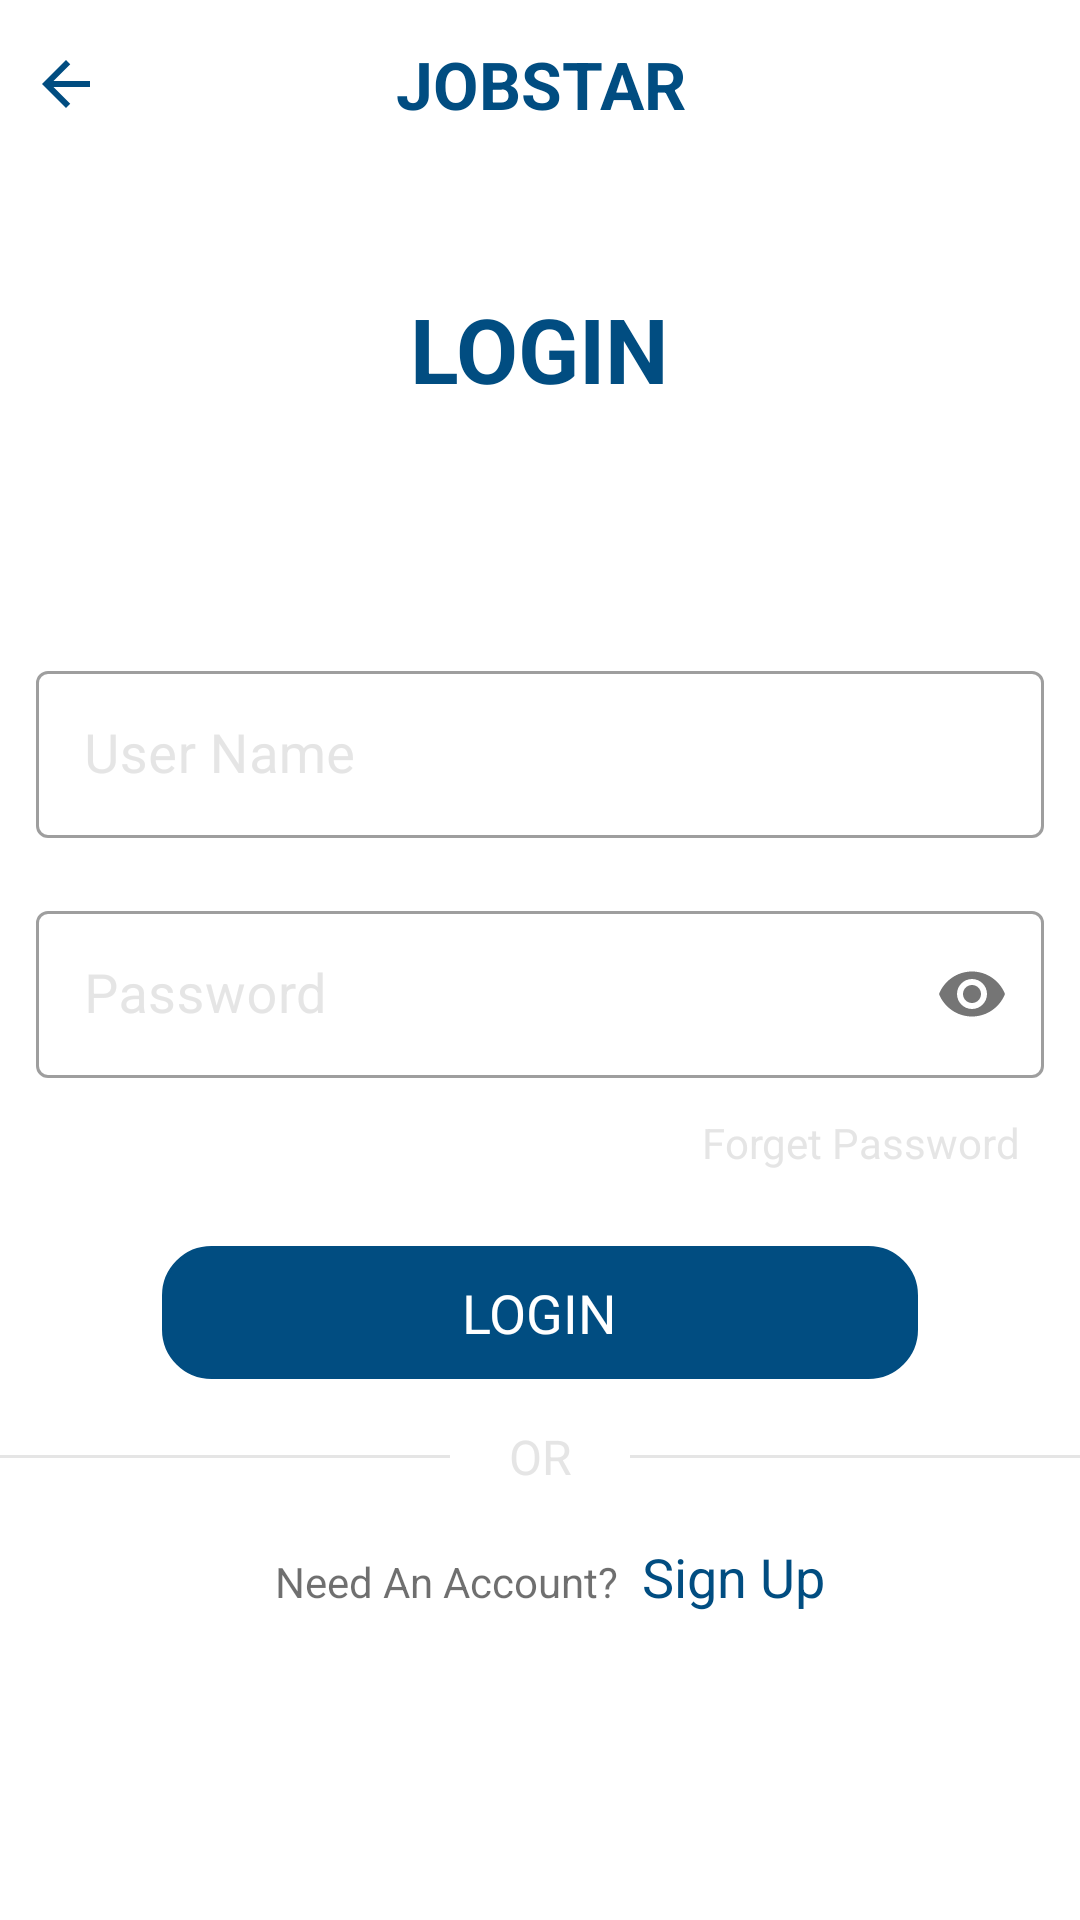

Point at icon controls on the screen. Image size 1080px×1920px, points as (x,y).
arrow back: (66,84)
